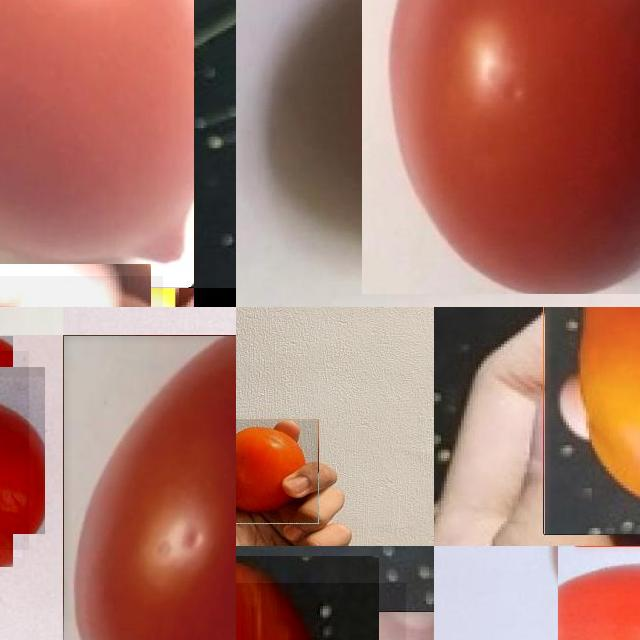0: (0, 0, 194, 288)
Fresh Tomato: (362, 0, 640, 294), (63, 335, 236, 640), (236, 419, 319, 524), (557, 546, 640, 640)
Rotten Tomato: (543, 307, 640, 534), (236, 583, 406, 640)
